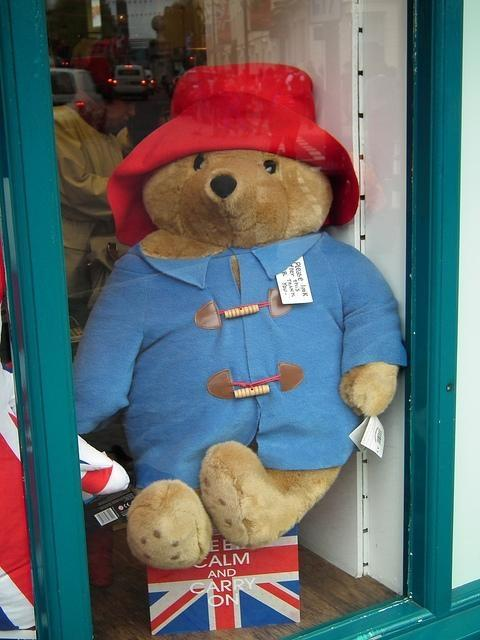car: (48, 66, 112, 132), (113, 66, 147, 102)
